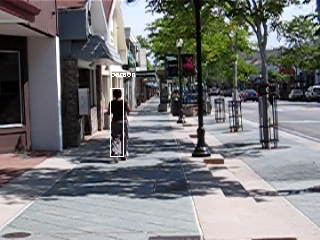person: (107, 88, 131, 164), (106, 88, 130, 164), (108, 88, 132, 164), (107, 87, 131, 163), (107, 89, 131, 165)
target_negative: (171, 6, 267, 197), (163, 13, 243, 167), (94, 151, 182, 191), (125, 191, 232, 204), (62, 220, 88, 235)
